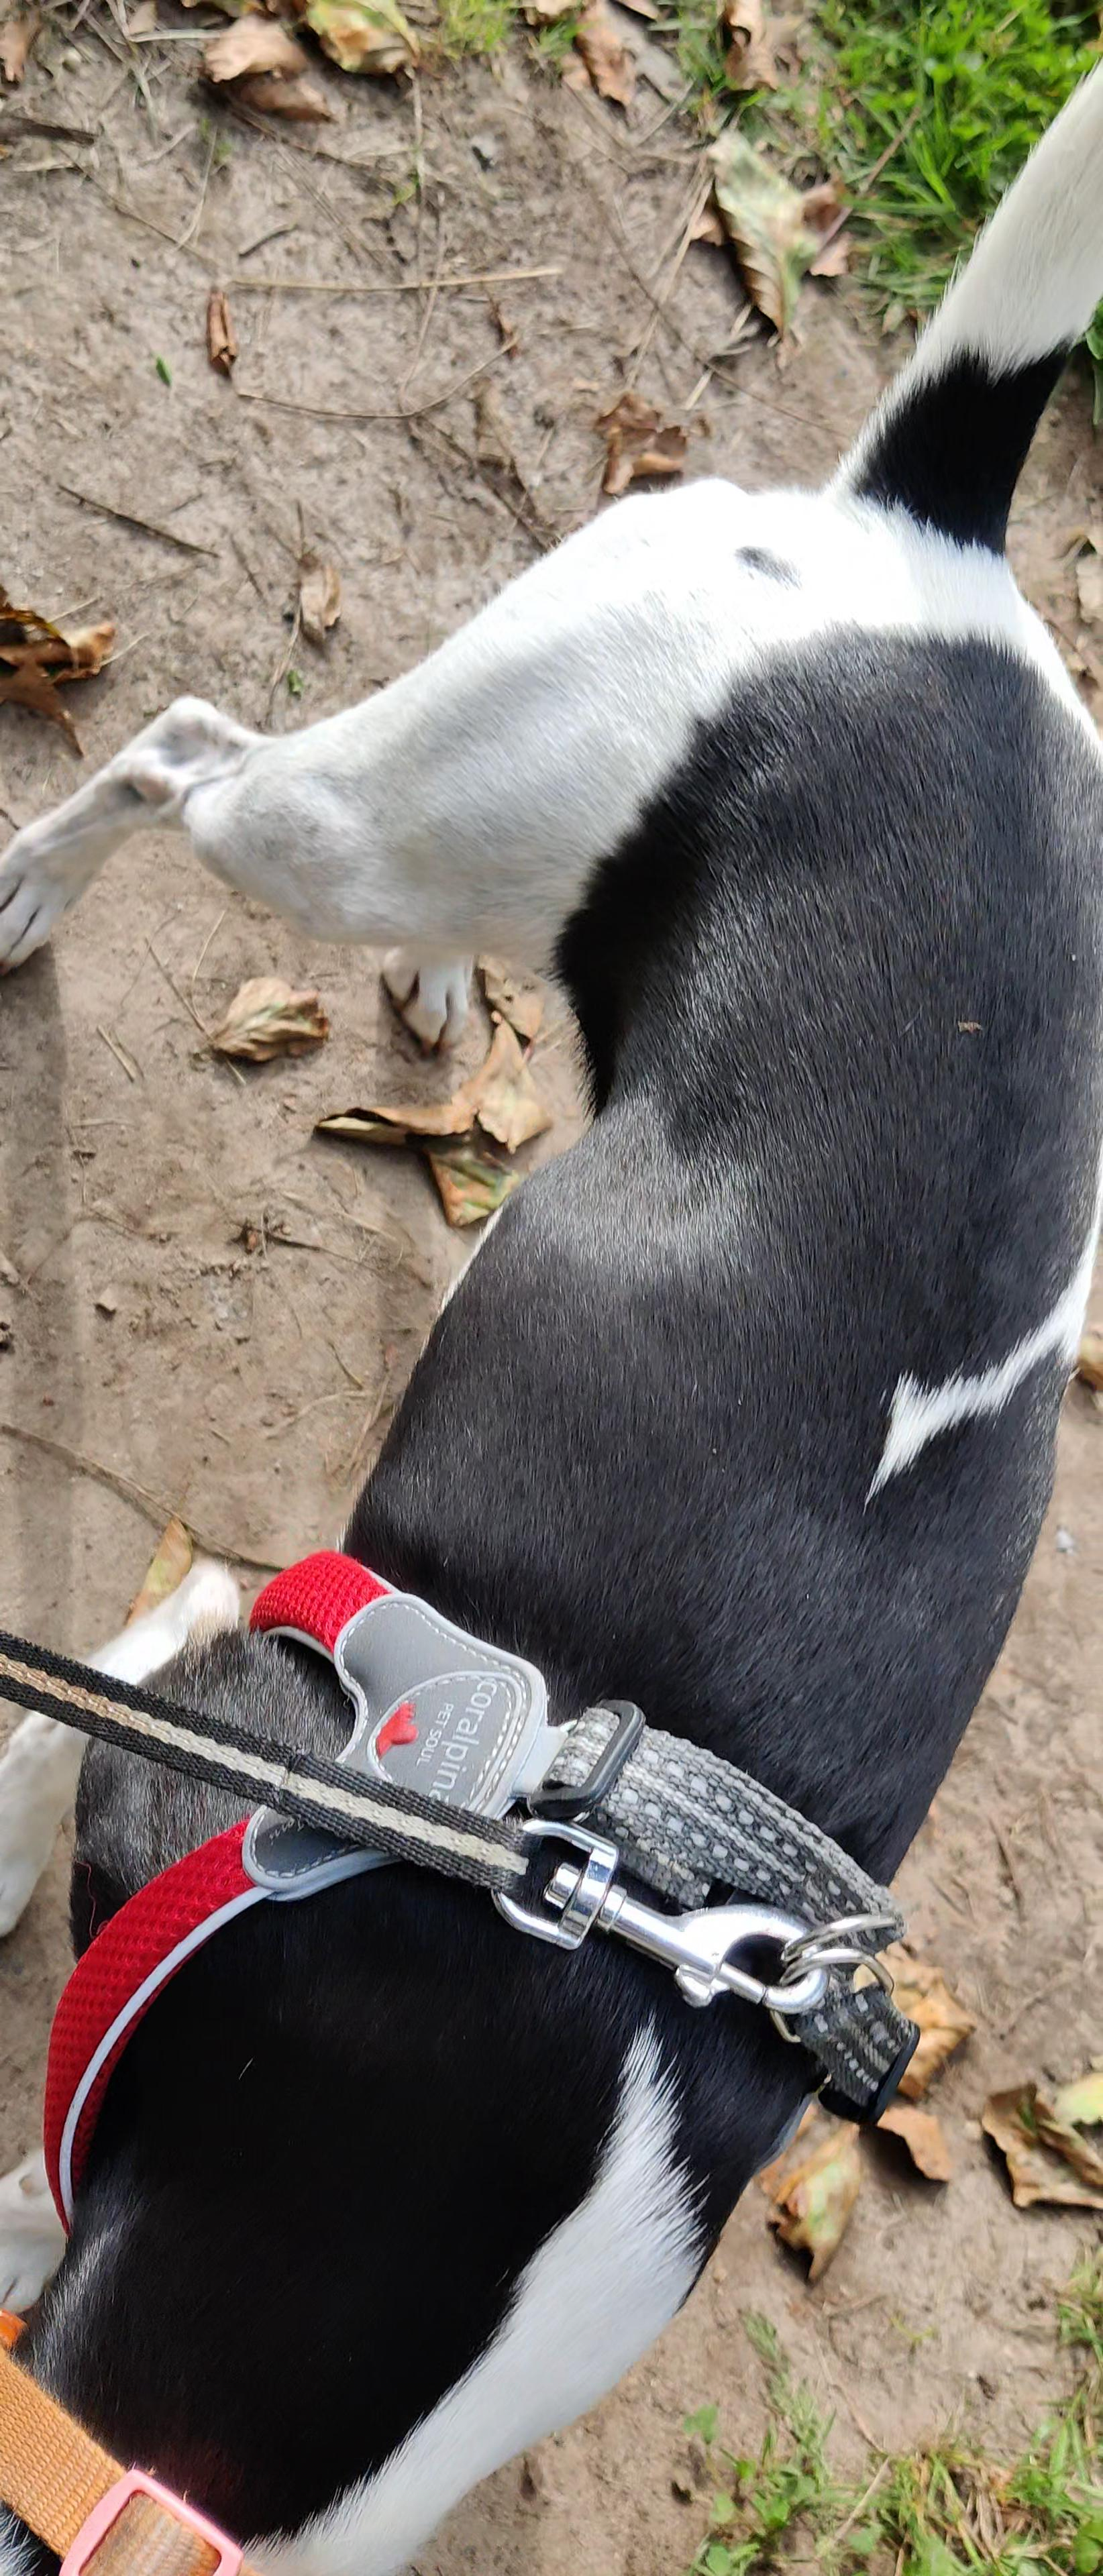Dog: (0, 51, 1103, 2576)
